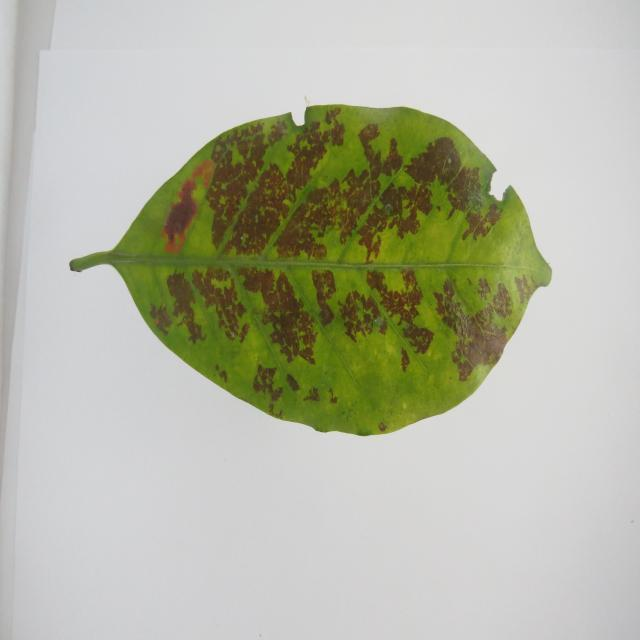DeficienciaNutricional-Potasio: (70, 105, 551, 435)
